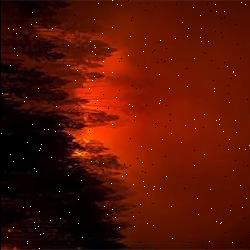fire: (50, 92, 104, 170)
